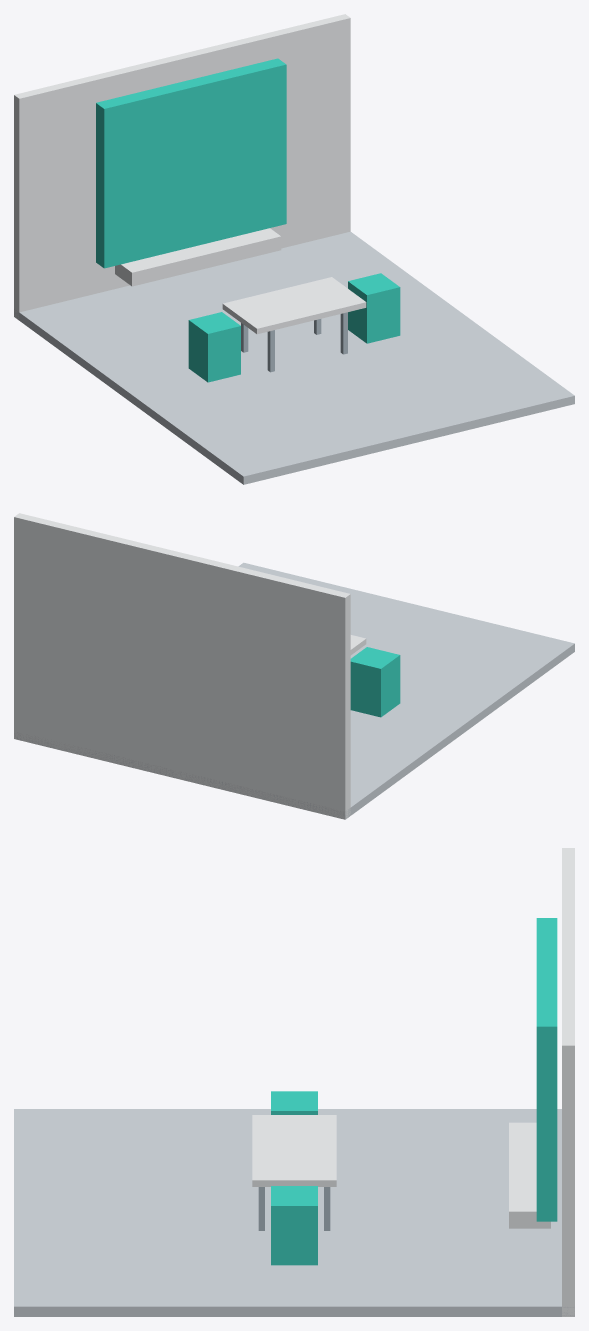
3 views of the same model, one above another, from view 1: azimuth 30°, elevation 25°; view 2: azimuth 150°, elevation 25°; view 3: azimuth 270°, elevation 25° (orthographic). The views are drawn at different scales.
Visible parts, largest first — view 1: Exhibition Booth Concept; view 2: Exhibition Booth Concept; view 3: Exhibition Booth Concept.
Boxes of the visible parts, x1,y1,x2,y2 form: Exhibition Booth Concept: (14,14,574,484); Exhibition Booth Concept: (14,513,574,819); Exhibition Booth Concept: (14,848,574,1316).
Size of the model in its own units: 5 by 3.2 by 6.
